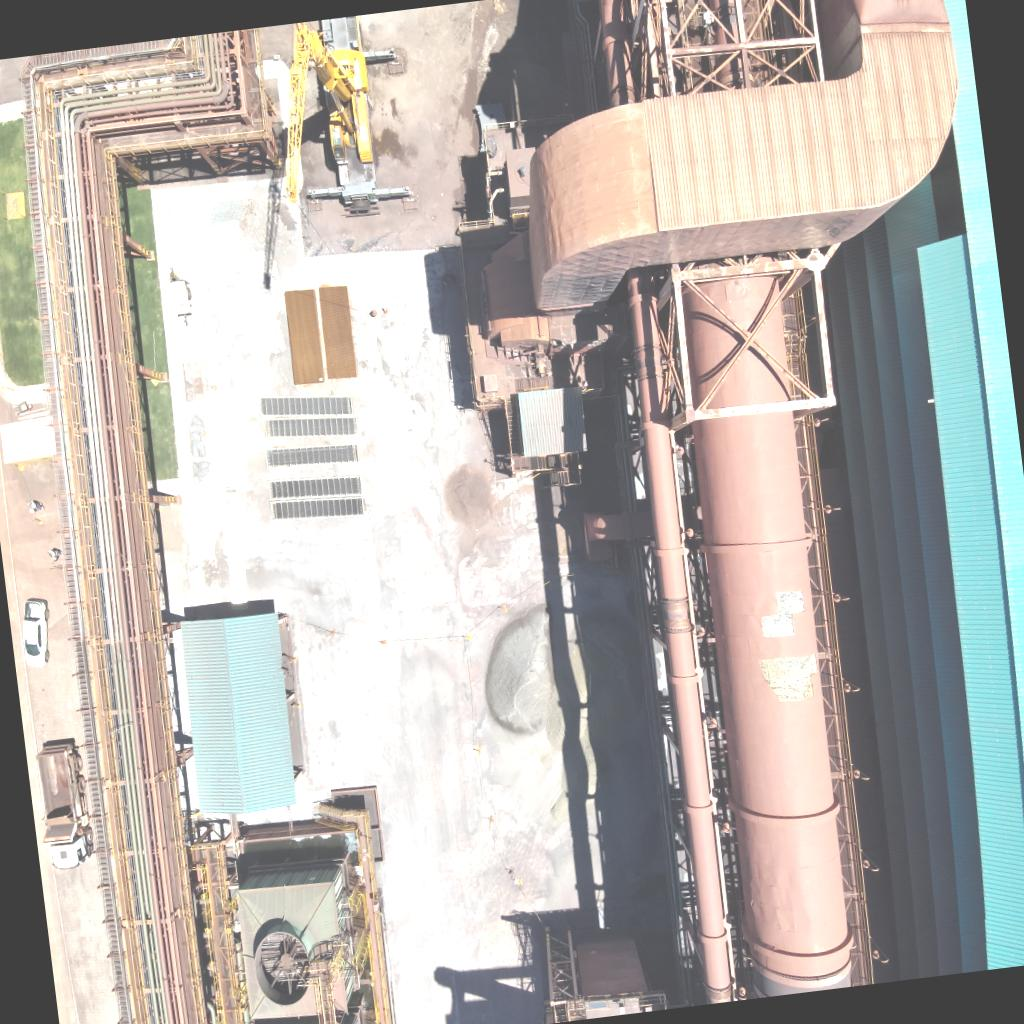Failures: (759, 652, 821, 706), (758, 589, 808, 638)
